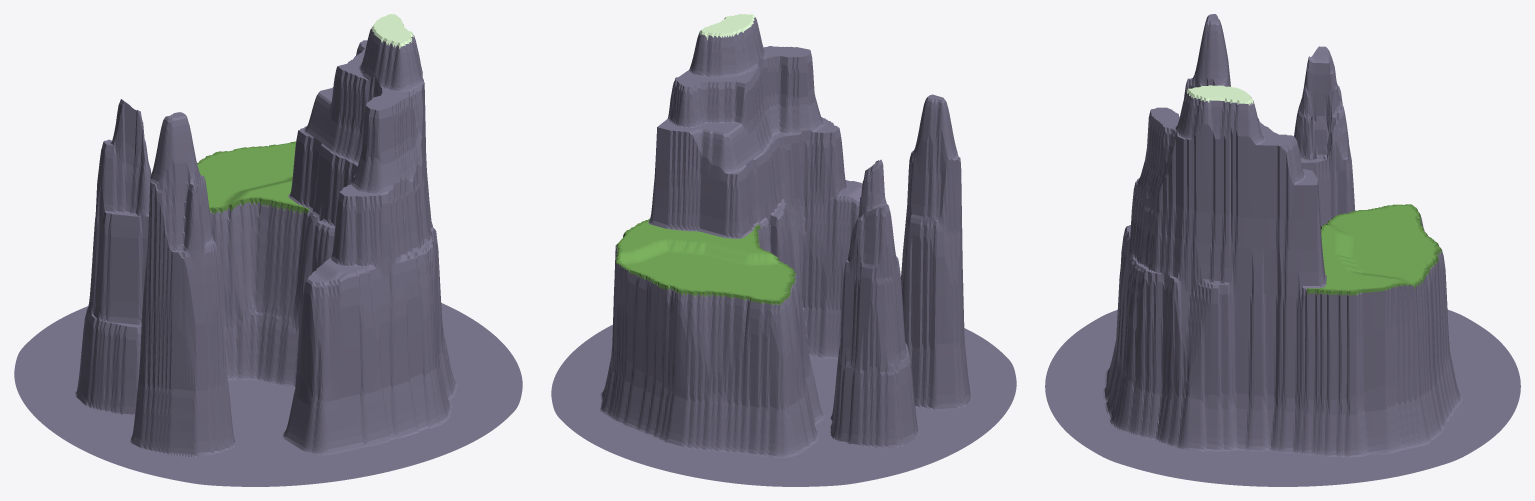
The model's file is islands2.fbx.
3 views of the same model, side by side, from view 1: azimuth 30°, elevation 25°; view 2: azimuth 150°, elevation 25°; view 3: azimuth 270°, elevation 25° (orthographic). The views are drawn at different scales.
Parts seen in each view (by area): view 1: islands2_rework.001; view 2: islands2_rework.001; view 3: islands2_rework.001.
Part boxes in pixels (x1,y1,x2,y2): islands2_rework.001: [14, 14, 522, 486]; islands2_rework.001: [551, 14, 1016, 486]; islands2_rework.001: [1045, 14, 1520, 486].
Bounding box in the file's own units: 6408 × 4997 × 6408.
